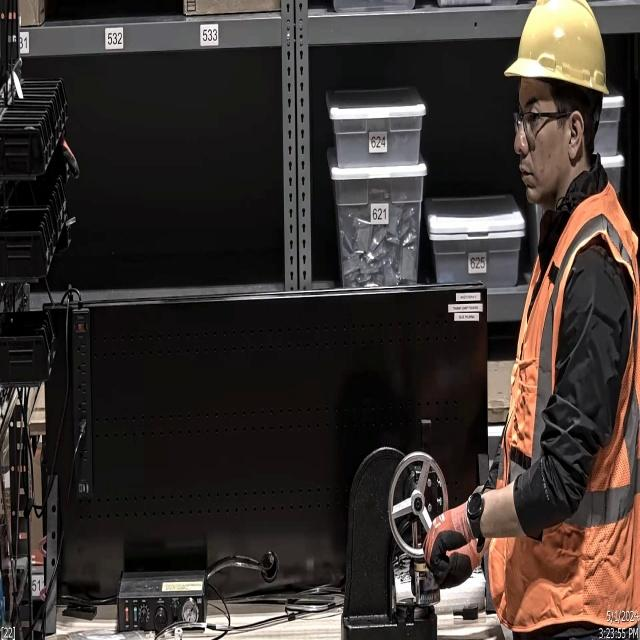construction-gloves: (422, 496, 477, 584)
